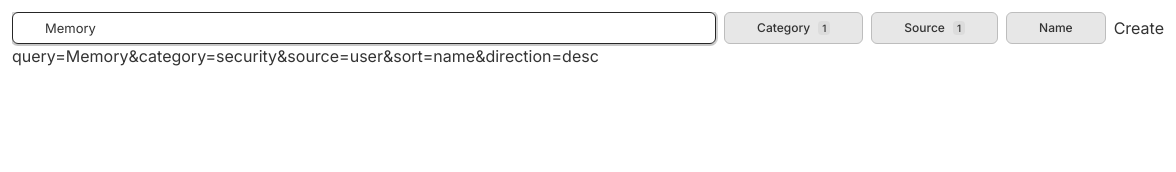
Scenario: PluginCollectionToolbar › clears and blurs wide search without removing filters
Replace the text in the field named "Search plugins" with "Notes": (364, 28) [12,12,716,44]
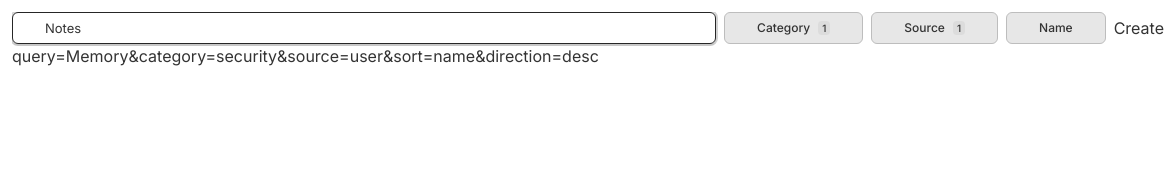
Click the button named "Clear search": (700, 28) [684,12,716,44]
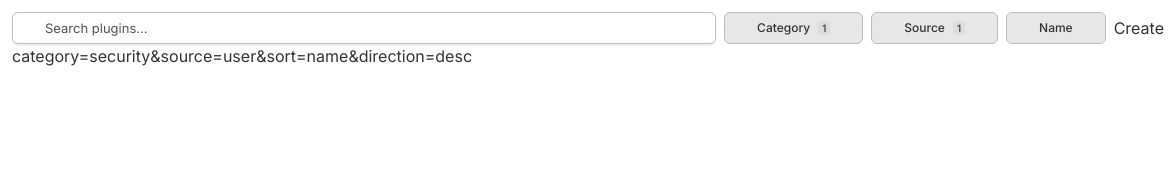
Check: the button with aria-label "Sort:" is shown, box [1006,12,1106,44]
Check: the field labelled "Search plugins" is empty, box [12,12,716,44]
Check: the text named "Parameters" reads "category=security&source=user&sort=name&direction=desc", box [12,46,472,66]
